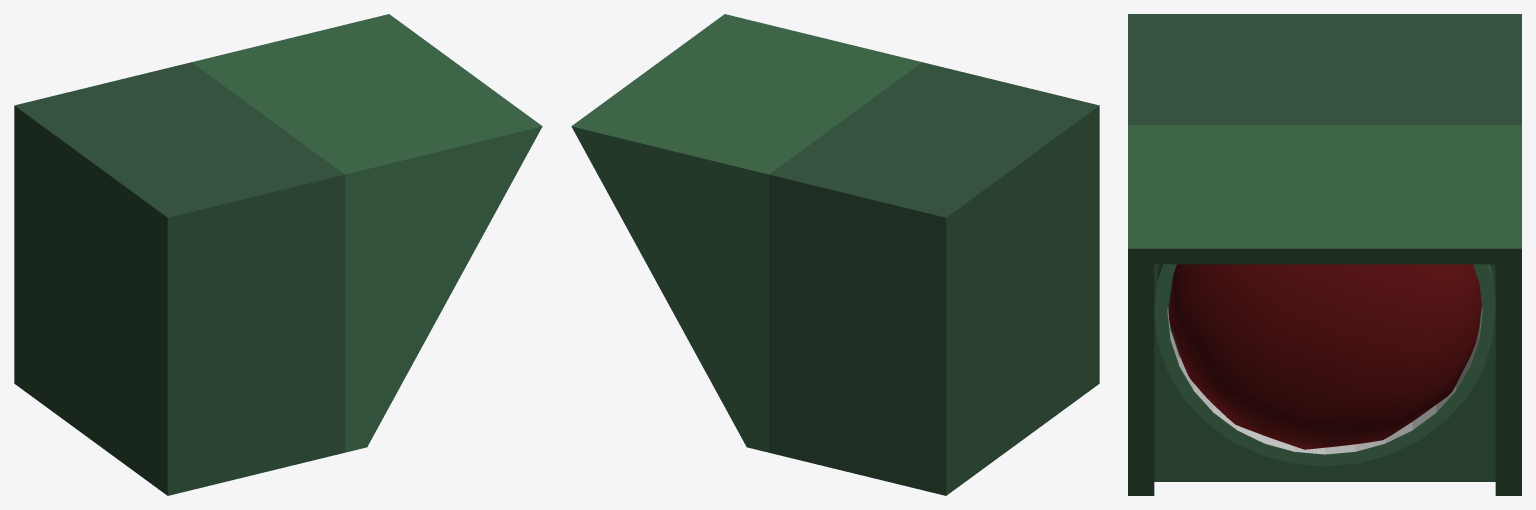
File: tl_red_off.obj
3 renders of one model, left to right at view 1: azimuth 30°, elevation 25°; view 2: azimuth 150°, elevation 25°; view 3: azimuth 270°, elevation 25°, orthographic. The views are drawn at different scales.
Visible parts, largest first — view 1: Cube, Cube.001; view 2: Cube, Cube.001; view 3: Cube.001, Cube, 球體, 圓柱體.
Part boxes in pixels (x1,y1,x2,y2): Cube: (14,62,344,495); Cube.001: (192,14,542,452); Cube: (769,62,1099,495); Cube.001: (571,14,921,452); Cube.001: (1128,125,1521,495); Cube: (1128,14,1521,481); 球體: (1168,264,1481,449); 圓柱體: (1154,264,1495,466).
Size of the model in its own units: 1.05 by 0.7481 by 0.7481.
